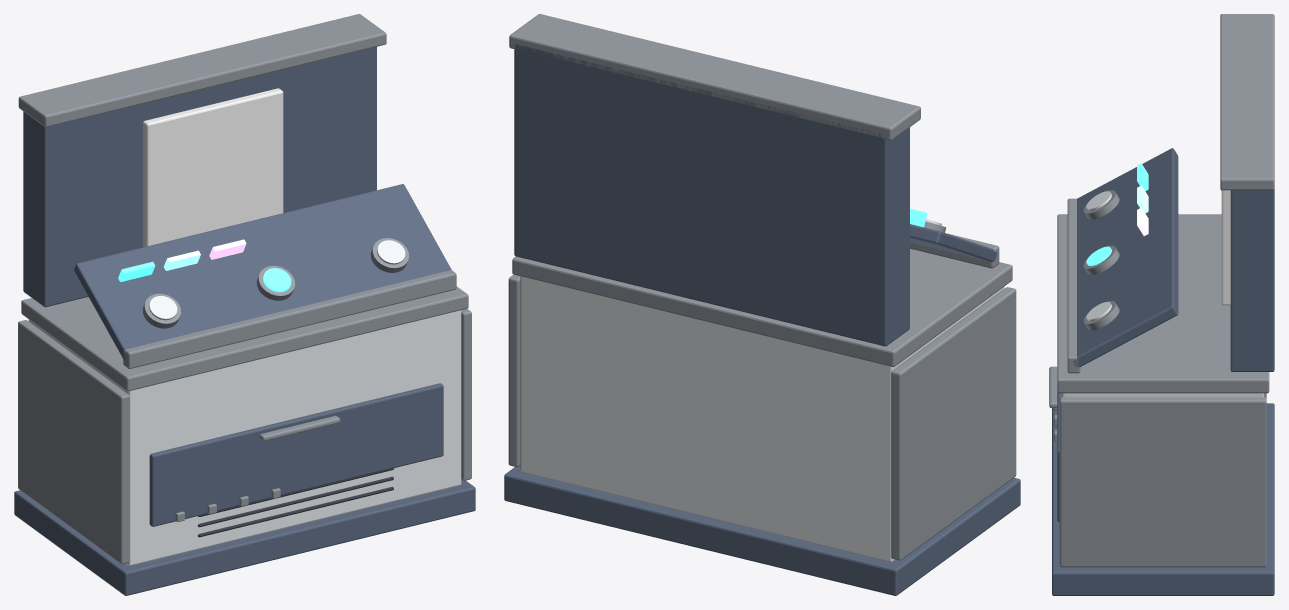
The model's file is blender_s4_spectrometer_console.glb.
3 renders of one model, left to right at view 1: azimuth 30°, elevation 25°; view 2: azimuth 150°, elevation 25°; view 3: azimuth 270°, elevation 25°, orthographic. The views are drawn at different scales.
Visible parts, largest first — view 1: Console_Cabinet, Console_ScreenHousing, Console_SpectrumDeck, Console_RecessPanel, Console_SideRail_-1, Console_CRT, Console_Plinth, Console_HousingCap, Console_Shoulder, Console_DeckRail, Console_SideRail_1, Console_Vent_1 (+2 smaller); view 2: Console_ScreenHousing, Console_Cabinet, Console_SideRail_-1, Console_Plinth, Console_HousingCap, Console_Shoulder, Console_SideRail_1, Console_SpectrumDeck, Console_DeckRail; view 3: Console_SideRail_1, Console_Shoulder, Console_SpectrumDeck, Console_HousingCap, Console_Plinth, Console_ScreenHousing, Console_DeckRail, Console_Cabinet, Console_CRT, Console_GaugeBezel_0, Console_GaugeBezel_1, Console_GaugeBezel_2 (+5 smaller).
Boxes of the visible parts, x1=… form: Console_Cabinet: x1=28, y1=310, x2=461, y2=565; Console_ScreenHousing: x1=23, y1=47, x2=376, y2=307; Console_SpectrumDeck: x1=74, y1=184, x2=451, y2=359; Console_RecessPanel: x1=149, y1=383, x2=443, y2=526; Console_SideRail_-1: x1=18, y1=320, x2=129, y2=564; Console_CRT: x1=143, y1=88, x2=283, y2=247; Console_Plinth: x1=14, y1=479, x2=475, y2=595; Console_HousingCap: x1=18, y1=14, x2=386, y2=127; Console_Shoulder: x1=21, y1=286, x2=468, y2=391; Console_DeckRail: x1=123, y1=270, x2=456, y2=368; Console_SideRail_1: x1=461, y1=309, x2=471, y2=480; Console_Vent_1: x1=197, y1=476, x2=393, y2=527; Console_ScreenHousing: x1=514, y1=44, x2=909, y2=346; Console_Cabinet: x1=520, y1=276, x2=1004, y2=562; Console_SideRail_-1: x1=891, y1=287, x2=1016, y2=560; Console_Plinth: x1=504, y1=466, x2=1020, y2=595; Console_HousingCap: x1=509, y1=14, x2=920, y2=140; Console_Shoulder: x1=512, y1=248, x2=1012, y2=366; Console_SideRail_1: x1=508, y1=274, x2=520, y2=466; Console_SpectrumDeck: x1=910, y1=224, x2=997, y2=262; Console_DeckRail: x1=910, y1=233, x2=999, y2=268; Console_SideRail_1: x1=1059, y1=397, x2=1266, y2=567; Console_Shoulder: x1=1057, y1=214, x2=1269, y2=393; Console_SpectrumDeck: x1=1073, y1=148, x2=1178, y2=367; Console_HousingCap: x1=1220, y1=14, x2=1274, y2=190; Console_Plinth: x1=1052, y1=403, x2=1274, y2=595; Console_ScreenHousing: x1=1230, y1=189, x2=1274, y2=371; Console_DeckRail: x1=1067, y1=198, x2=1080, y2=373; Console_Cabinet: x1=1062, y1=393, x2=1264, y2=567; Console_CRT: x1=1221, y1=190, x2=1230, y2=305; Console_GaugeBezel_0: x1=1083, y1=190, x2=1119, y2=219; Console_GaugeBezel_1: x1=1083, y1=245, x2=1119, y2=274; Console_GaugeBezel_2: x1=1083, y1=301, x2=1119, y2=330.
Size of the model in its own units: 1.54 by 1.75 by 0.86.
